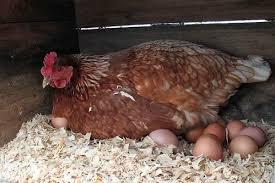egg: (193, 131, 223, 160), (148, 126, 181, 152), (228, 134, 260, 158), (201, 121, 227, 144), (50, 113, 72, 132), (242, 127, 270, 141)
